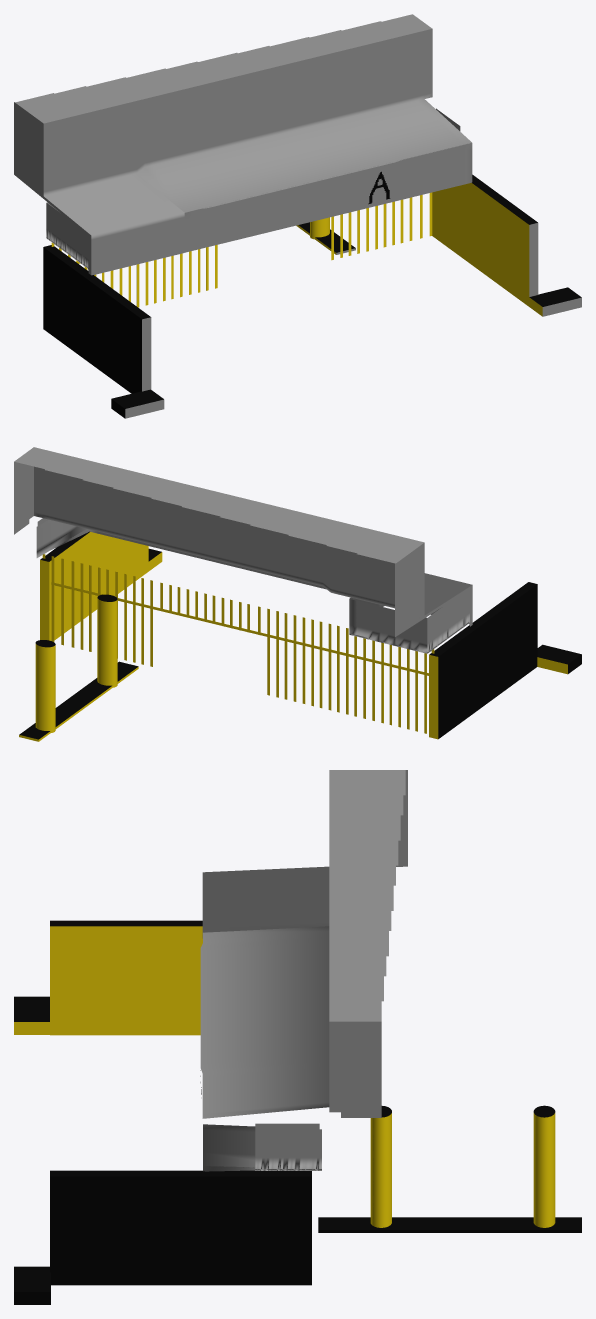
The model's file is principal.FBX.
The picture shows the model from 3 angles, top to bottom: view 1: azimuth 30°, elevation 25°; view 2: azimuth 150°, elevation 25°; view 3: azimuth 270°, elevation 25°; orthographic projection. The views are drawn at different scales.
Parts seen in each view (by area): view 1: Box005; view 2: Box005; view 3: Box005.
Part boxes in pixels (x1,y1,x2,y2): Box005: (14,14,581,418); Box005: (14,447,581,741); Box005: (14,770,581,1304).
Bounding box in the file's own units: 459 × 191 × 373.
